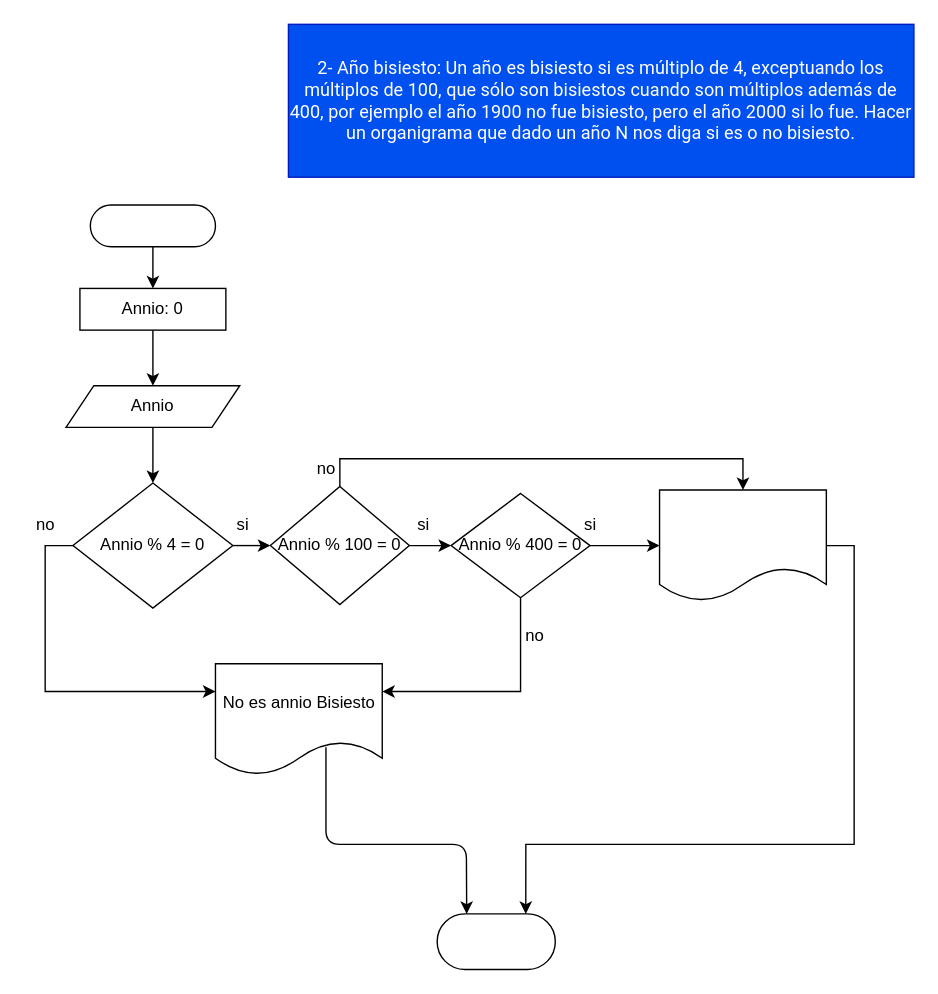
This 938x994 diagram has some shape labels left out. Here are the shapes that lost their labels. From the top down, the centre of each, then its label:
At point (152, 225): "Inicio".
At point (742, 545): "Si es annio Bisiesto".
At point (495, 941): "Fin".
